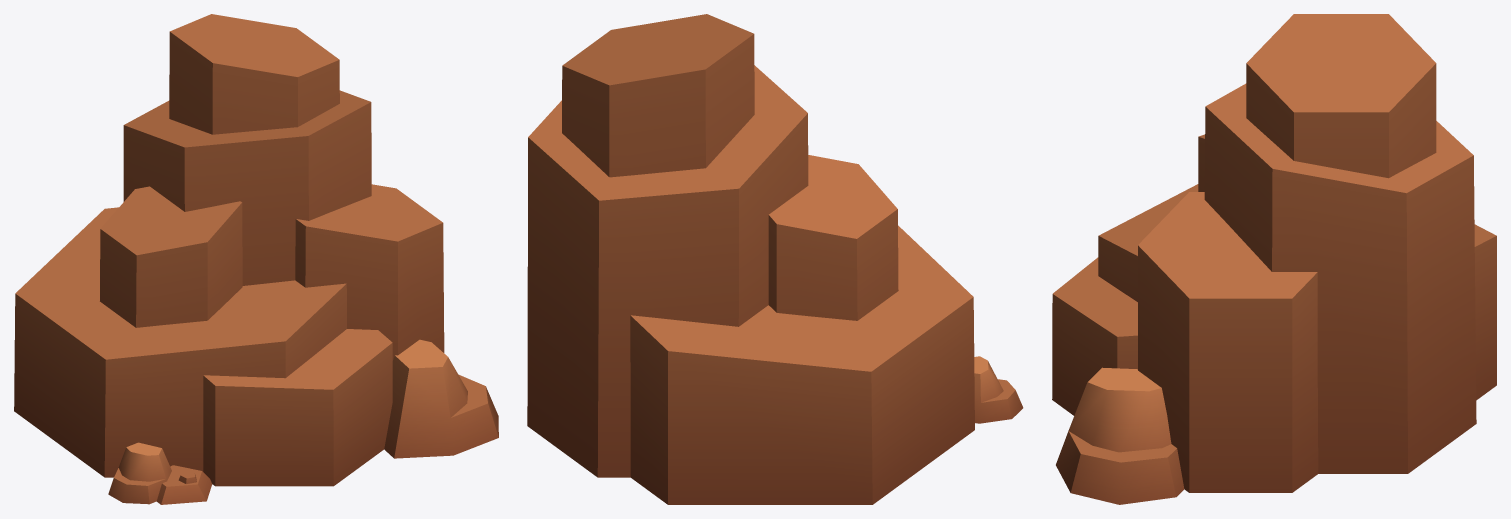
Rendered from env_cliff_segment.glb.
3 renders of one model, left to right at view 1: azimuth 30°, elevation 25°; view 2: azimuth 150°, elevation 25°; view 3: azimuth 270°, elevation 25°, orthographic. The views are drawn at different scales.
Parts seen in each view (by area): view 1: mountain_B, rock_single_C, rock_single_E; view 2: mountain_B, rock_single_E; view 3: mountain_B, rock_single_C.
Boxes of the visible parts, box(x1,y1,x2,y2) form: mountain_B: box(14, 14, 444, 486); rock_single_C: box(384, 339, 498, 458); rock_single_E: box(108, 442, 212, 504); mountain_B: box(527, 14, 974, 504); rock_single_E: box(974, 356, 1023, 423); mountain_B: box(1052, 14, 1496, 492); rock_single_C: box(1056, 367, 1184, 504).
Size of the model in its own units: 2.45 by 2.17 by 2.3.
3 materials, 3 textured.
